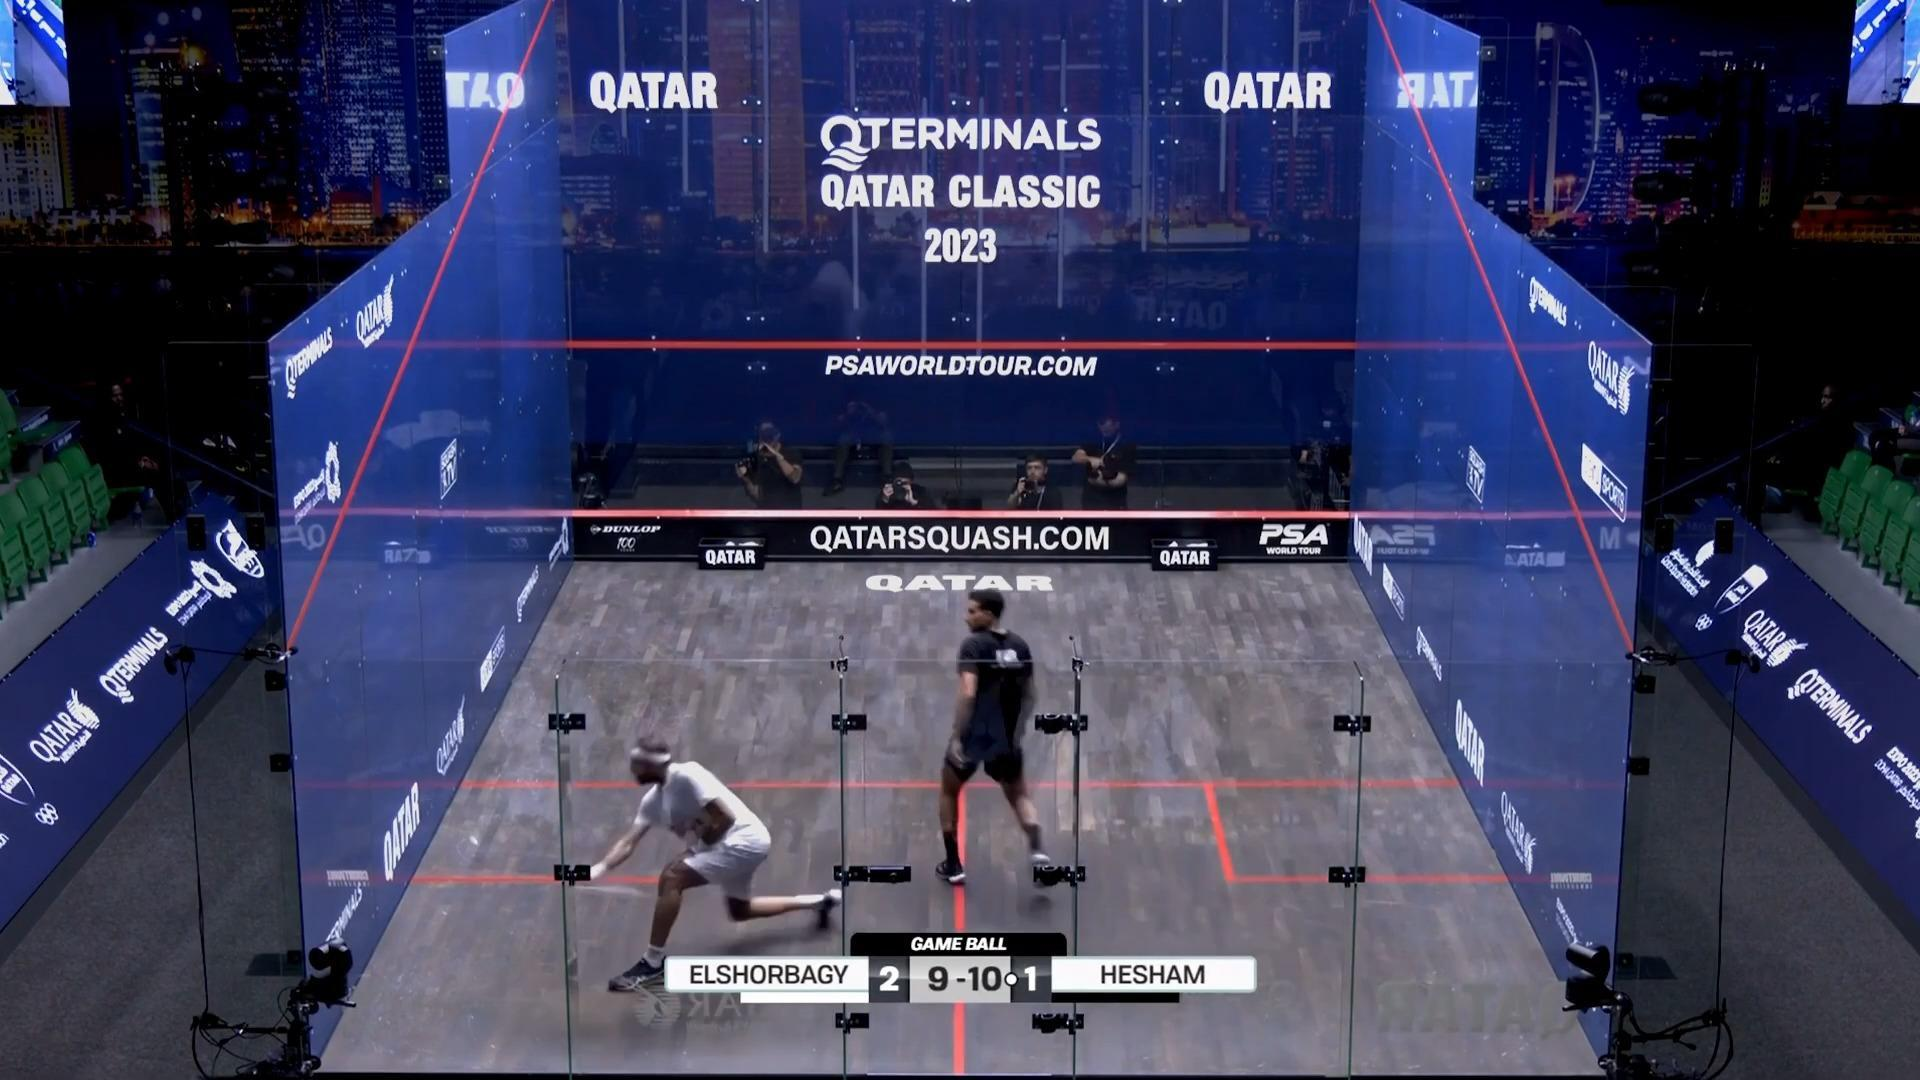Squash-Ball: (463, 822, 485, 860)
